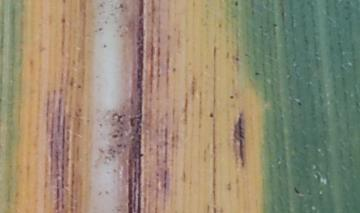tarspot: (233, 112, 247, 168), (110, 112, 127, 125), (113, 2, 124, 11), (292, 186, 302, 195), (128, 117, 135, 128), (228, 92, 236, 101), (96, 25, 104, 33), (296, 99, 303, 108), (110, 132, 119, 139), (253, 70, 261, 77), (233, 1, 241, 8), (60, 16, 67, 24), (170, 65, 177, 73), (75, 83, 83, 90), (162, 181, 168, 190), (76, 106, 83, 113), (208, 111, 214, 119), (270, 22, 278, 28), (102, 41, 107, 50), (138, 152, 144, 159), (217, 22, 223, 29), (257, 24, 264, 30), (233, 56, 239, 62), (60, 1, 68, 5)
